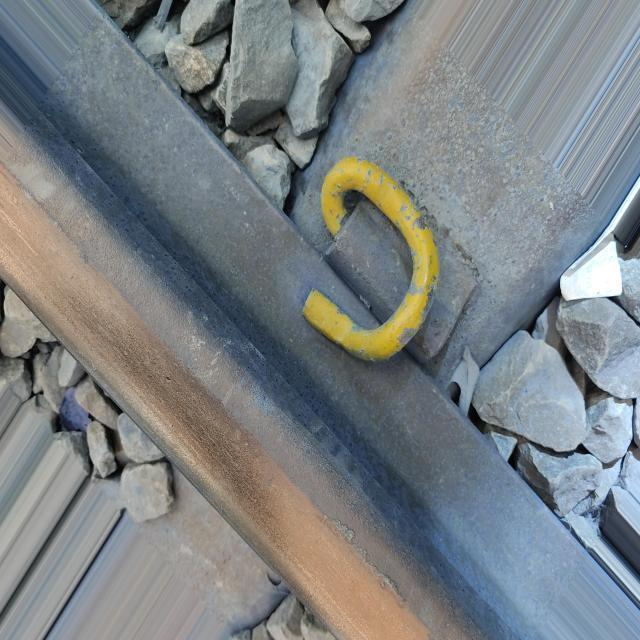head_checks_low: (326, 516, 410, 606), (165, 374, 173, 384)
